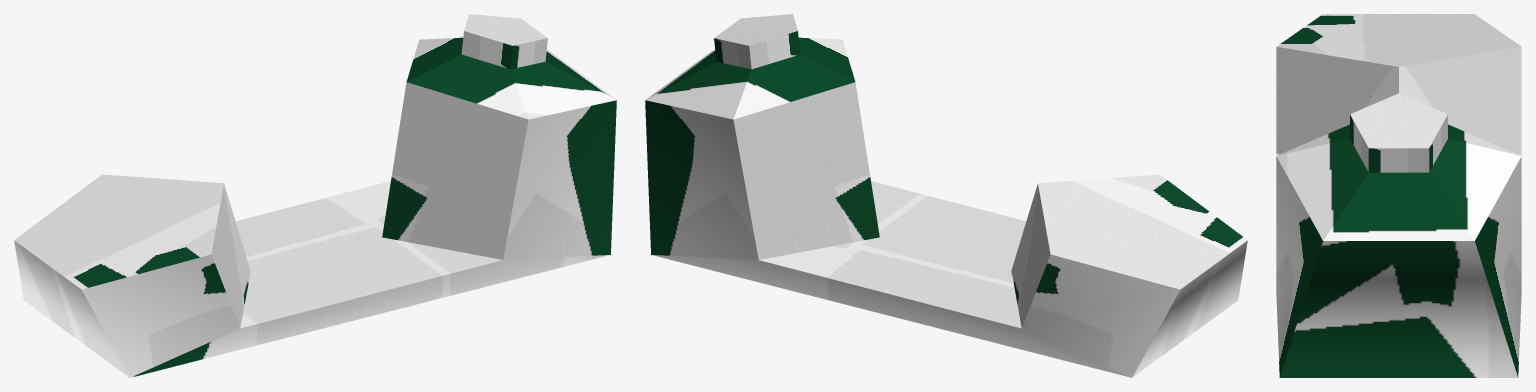
The model's file is destroyed_bottle.fbx.
3 views of the same model, side by side, from view 1: azimuth 30°, elevation 25°; view 2: azimuth 150°, elevation 25°; view 3: azimuth 270°, elevation 25° (orthographic). The views are drawn at different scales.
Visible parts, largest first — view 1: pCylinder18; view 2: pCylinder18; view 3: pCylinder18.
Part boxes in pixels (x1=…): pCylinder18: x1=14, y1=14, x2=616, y2=377; pCylinder18: x1=645, y1=14, x2=1247, y2=377; pCylinder18: x1=1276, y1=14, x2=1521, y2=377.
Size of the model in its own units: 3.85 by 1.47 by 1.36.
